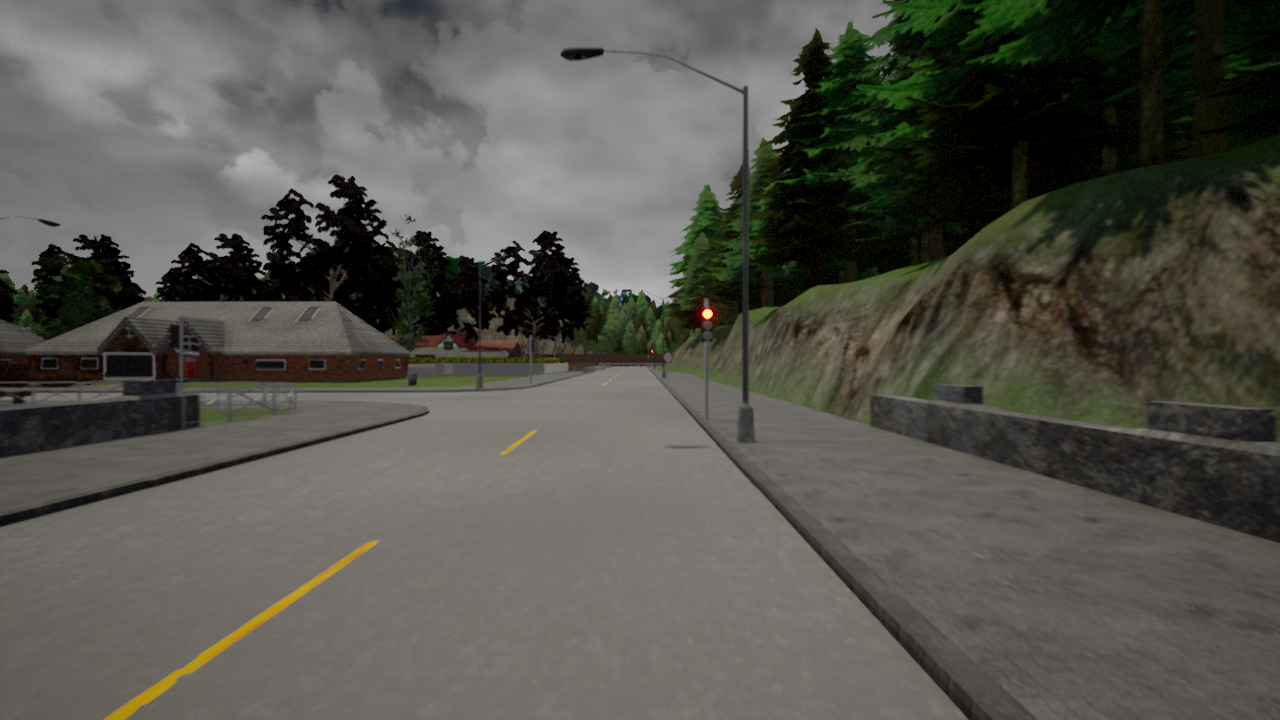red: (700, 306, 714, 343)
